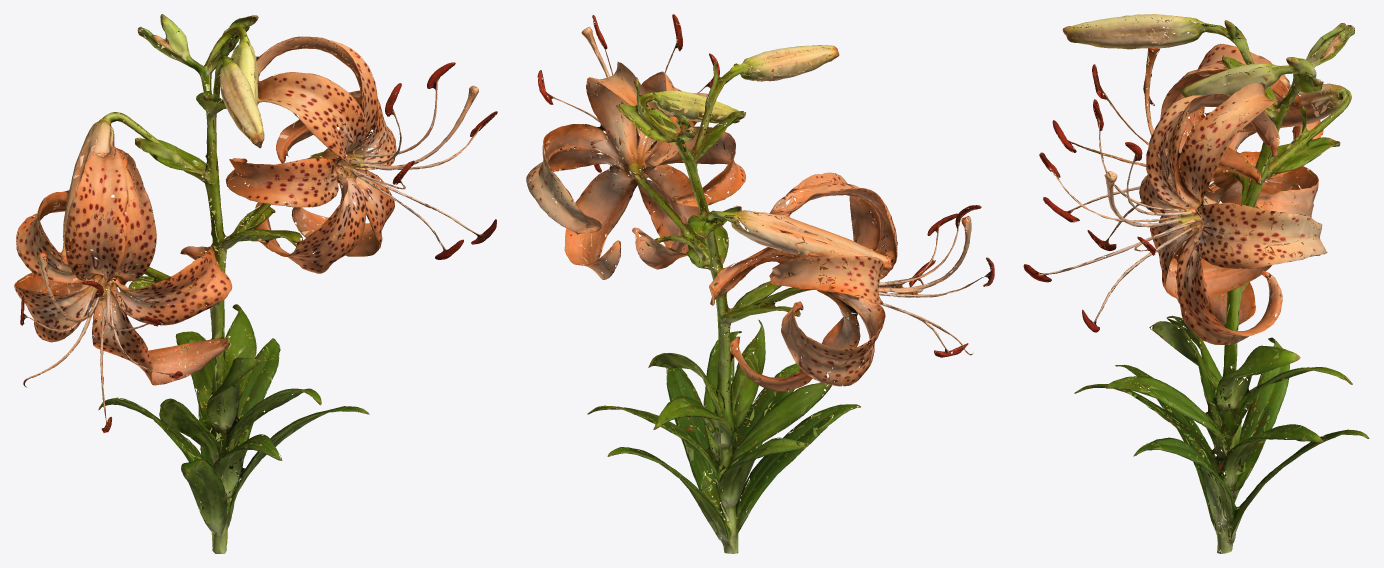
Rendered from lily-touch.glb.
The picture shows the model from 3 angles, left to right: view 1: azimuth 30°, elevation 25°; view 2: azimuth 150°, elevation 25°; view 3: azimuth 270°, elevation 25°; orthographic projection. The views are drawn at different scales.
Visible parts, largest first — view 1: Object_6, Object_10; view 2: Object_10, Object_6; view 3: Object_10, Object_6.
Boxes of the visible parts, x1,y1,x2,y2 form: Object_6: (14, 15, 497, 553); Object_10: (14, 14, 497, 550); Object_10: (528, 14, 994, 550); Object_6: (526, 16, 992, 553); Object_10: (1023, 17, 1369, 553); Object_6: (1023, 14, 1368, 553).
Bounding box in the file's own units: 0.9777 × 1 × 0.5818.
Materials: 2 (2 with a texture image).
